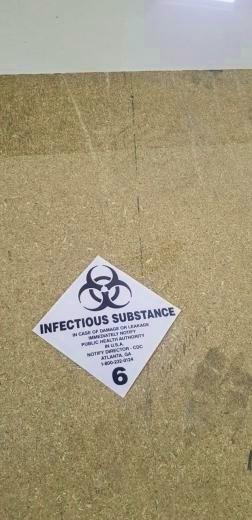infectious-substance: (31, 254, 182, 398)
